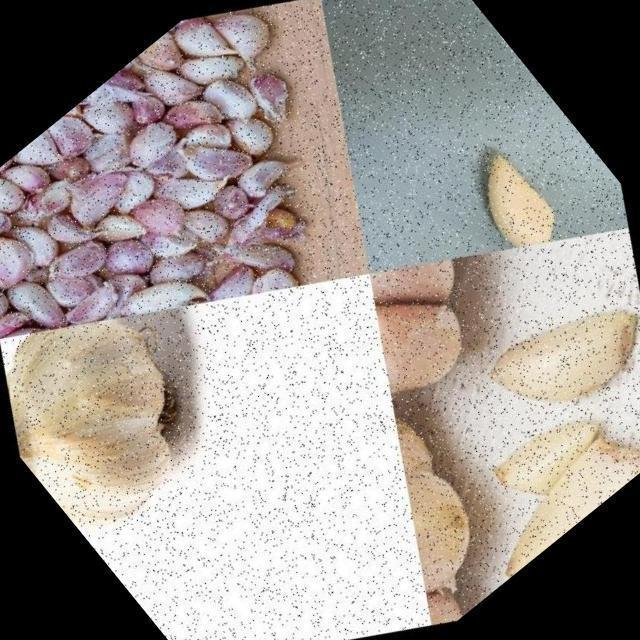garlic: (0, 0, 428, 461), (0, 242, 283, 580), (427, 360, 640, 588), (446, 242, 640, 476), (458, 363, 640, 547), (438, 114, 600, 276)
